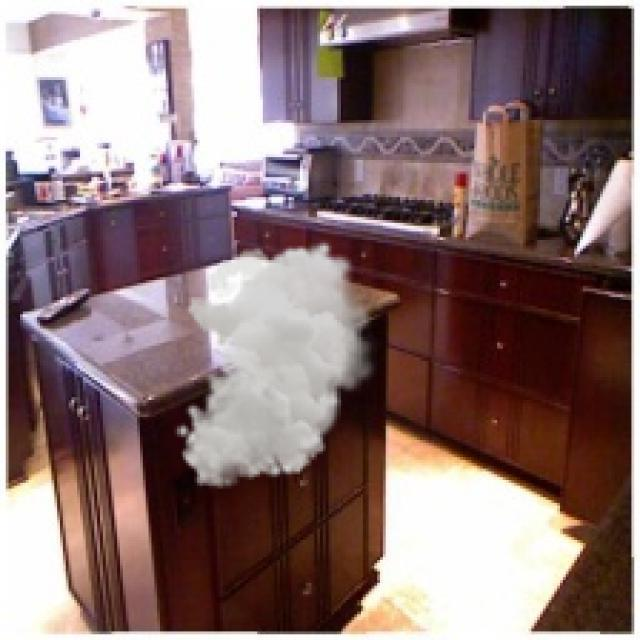Smoke: (174, 241, 380, 488)
